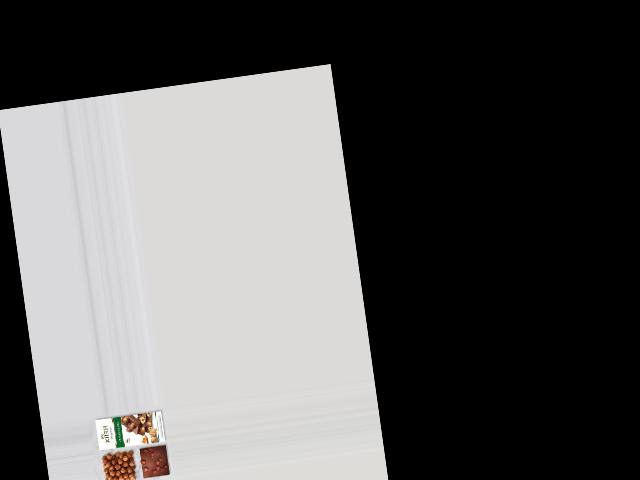chocolate: (138, 443, 171, 480)
